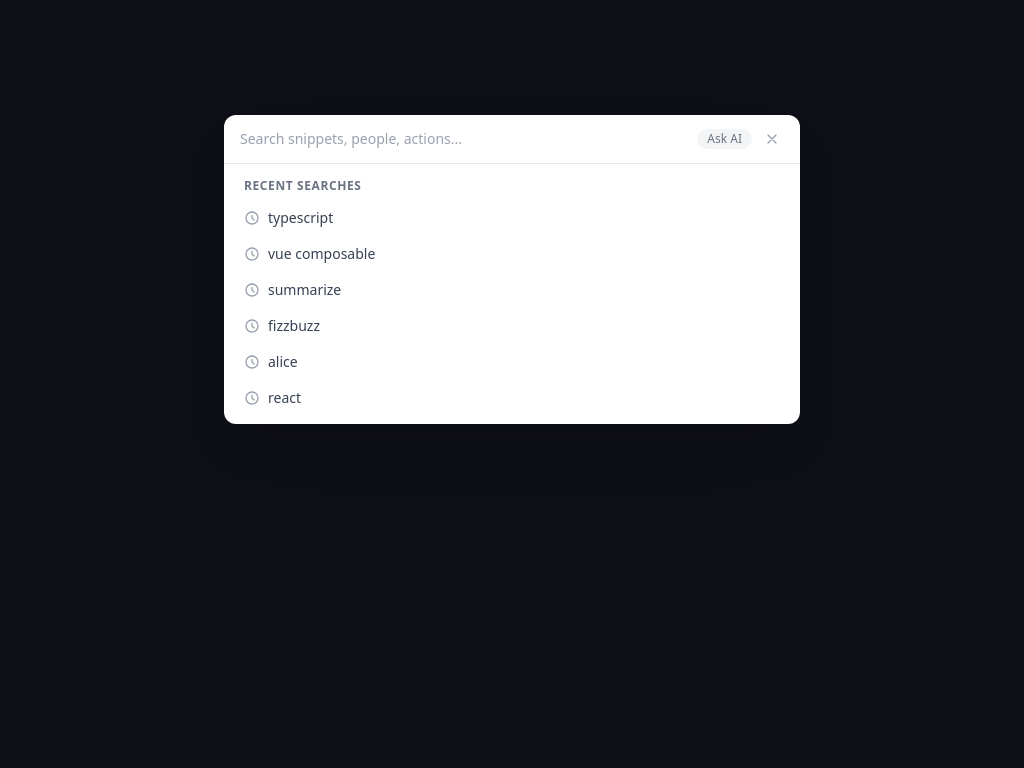
Scenario: TheSearchModal › shows result groups when input is non-empty and results exist
Step 1. Type "react" into the field with placeholder "Search snippets, people, actions..." → (465, 139), box [240, 129, 689, 149]
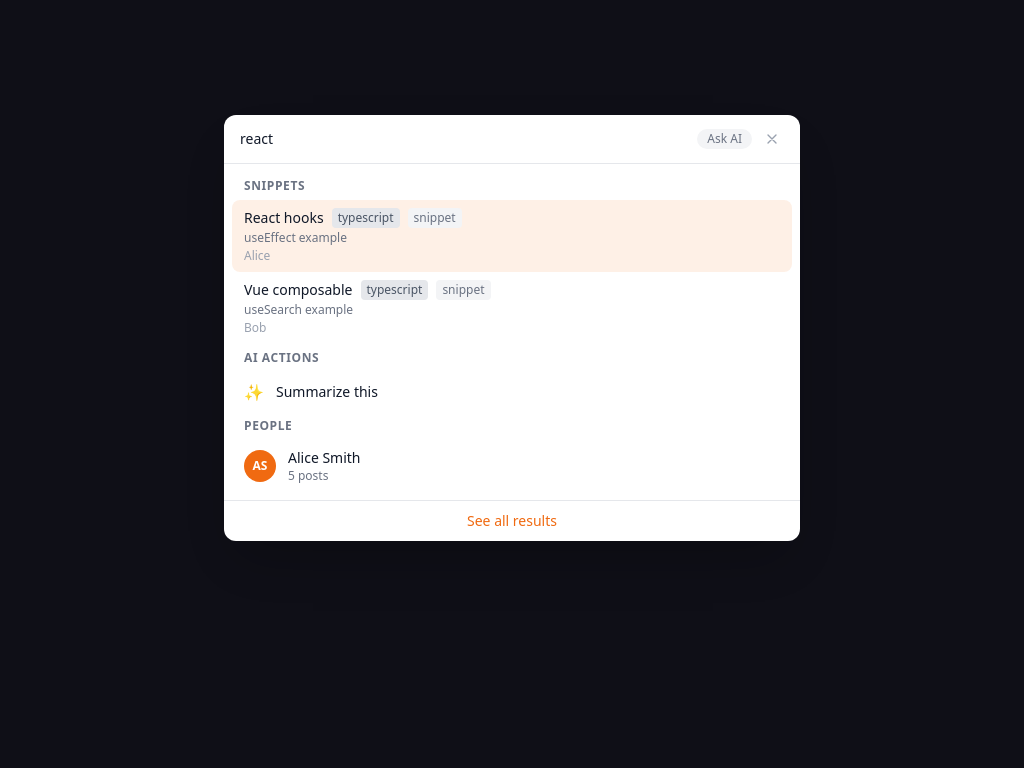
Check: the text "React hooks" is shown, box [244, 208, 324, 228]
